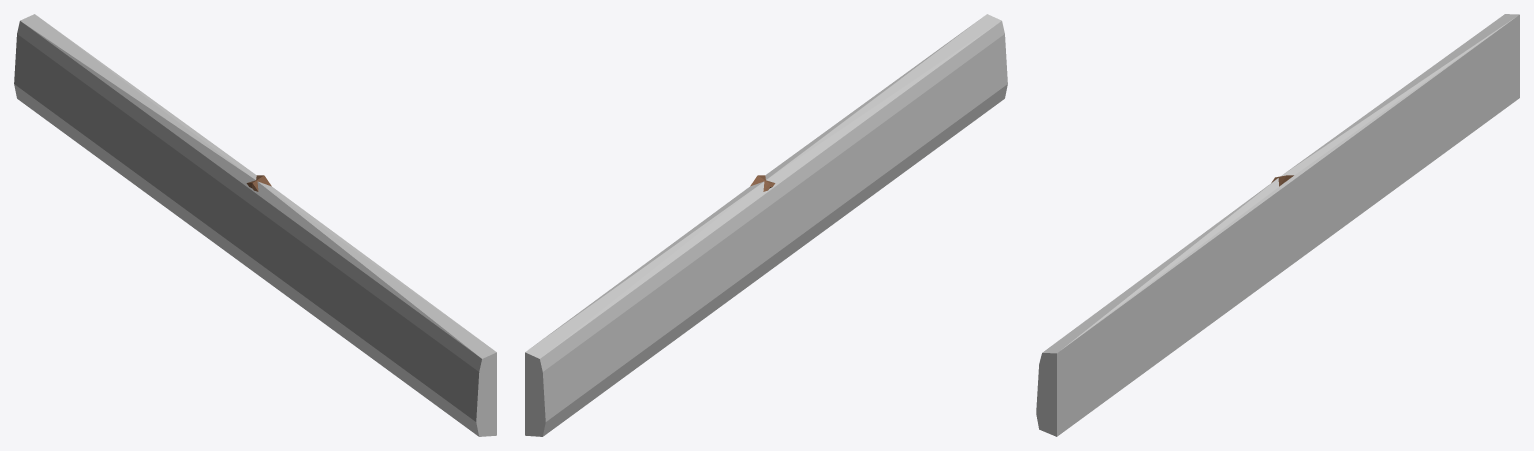
The model's file is SM_Bld_Wall_Trim_02.fbx.
The picture shows the model from 3 angles, left to right: view 1: azimuth 30°, elevation 25°; view 2: azimuth 150°, elevation 25°; view 3: azimuth 330°, elevation 25°; orthographic projection.
Parts seen in each view (by area): view 1: SM_Bld_Wall_Trim_02_ConvexHulls; view 2: SM_Bld_Wall_Trim_02_ConvexHulls; view 3: SM_Bld_Wall_Trim_02_ConvexHulls.
Part boxes in pixels (x1,y1,x2,y2): SM_Bld_Wall_Trim_02_ConvexHulls: (14,14,496,436); SM_Bld_Wall_Trim_02_ConvexHulls: (525,14,1007,436); SM_Bld_Wall_Trim_02_ConvexHulls: (1036,14,1519,436).
Bounding box in the file's own units: 6.48 × 251 × 27.46.
2 materials, 1 textured.
